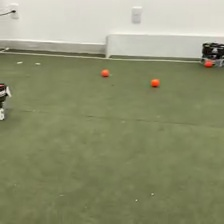ball: (100, 67, 110, 77), (149, 77, 159, 87), (204, 59, 212, 69)
goal: (102, 31, 224, 60)
robot: (200, 40, 224, 69), (1, 81, 12, 122)
